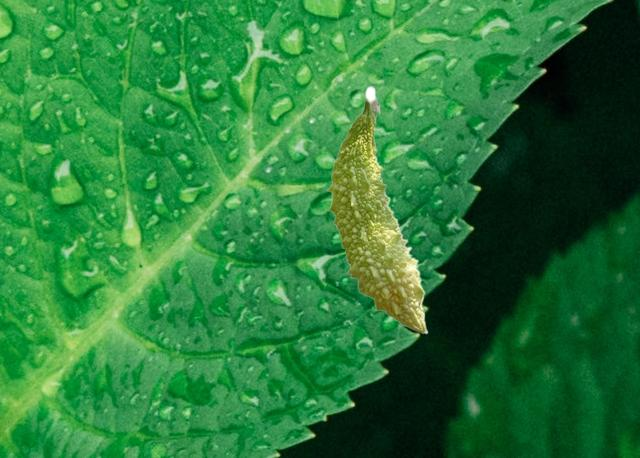ampalaya: (326, 84, 428, 334)
